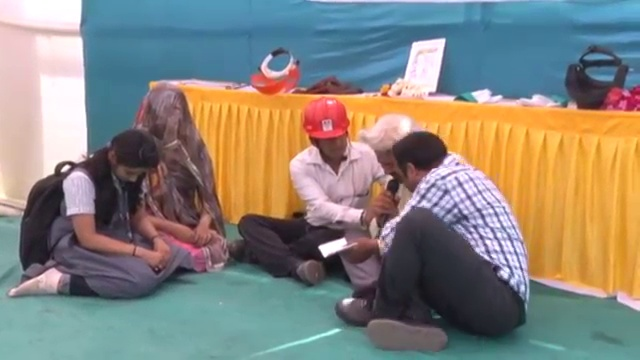helmet: (298, 98, 354, 141)
helmet_off: (389, 130, 448, 192), (141, 81, 194, 150), (366, 114, 416, 186), (102, 128, 159, 189)
helmet_on: (297, 96, 358, 165)
person: (338, 131, 532, 350), (5, 127, 187, 302), (221, 96, 387, 282), (129, 83, 231, 275), (334, 117, 418, 320)
